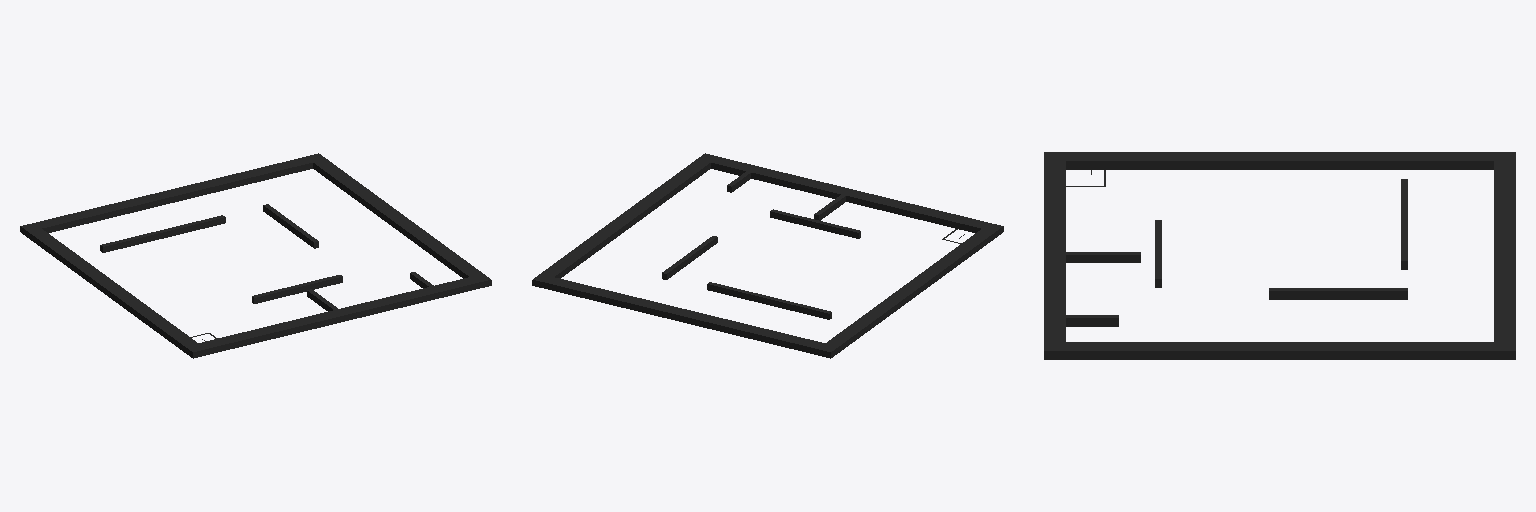
The robot description file, URDF, robot "Room16":
<robot name="Room16">
    <link name="_name">
        <visual> 
            <origin rpy="0.0 0.0 0.0" xyz="-0.5041344297149983 -0.495123818916201 -0.009999999999999988" />
                <geometry>
                    <mesh filename="Room16/Room16.obj" scale="1 1 0.1" />
                </geometry>

            <material name="black">
                <color rgba="0.2 0.2 0.2 0.95" />
            </material>
        </visual>

       <collision concave="yes" name="collision_0">
            <origin rpy="0.0 0.0 0.0" xyz="-0.5041344297149983 -0.495123818916201 -0.009999999999999988" />
            <geometry>
                <mesh filename="Room16/Room16_vhacd.obj" scale="1 1 0.1" />
            </geometry>
        </collision>

        <inertial> 
            <mass value="0" />
            <inertia ixx="0" ixy="0" ixz="0" iyy="0" iyz="0" izz="0" />
        </inertial> 
    </link>
</robot>

--- Facts derived from the render (not from the file) ---
The picture shows the robot from 3 angles, left to right: view 1: azimuth 30°, elevation 25°; view 2: azimuth 150°, elevation 25°; view 3: azimuth 270°, elevation 25°; orthographic projection.
Model Room16 with 1 links and 0 joints (none), rooted at _name, posed every joint at zero.
Links seen in each view (by area): view 1: _name; view 2: _name; view 3: _name.
Boxes of the visible links, bbox=[...] form: _name: bbox=[20, 153, 491, 358]; _name: bbox=[532, 153, 1003, 358]; _name: bbox=[1044, 152, 1515, 359].
Size in the robot's own frame: 1 by 1 by 0.02 metres.
Meshes: 1 distinct files referenced, 1 mesh visuals loaded (1 OBJ).